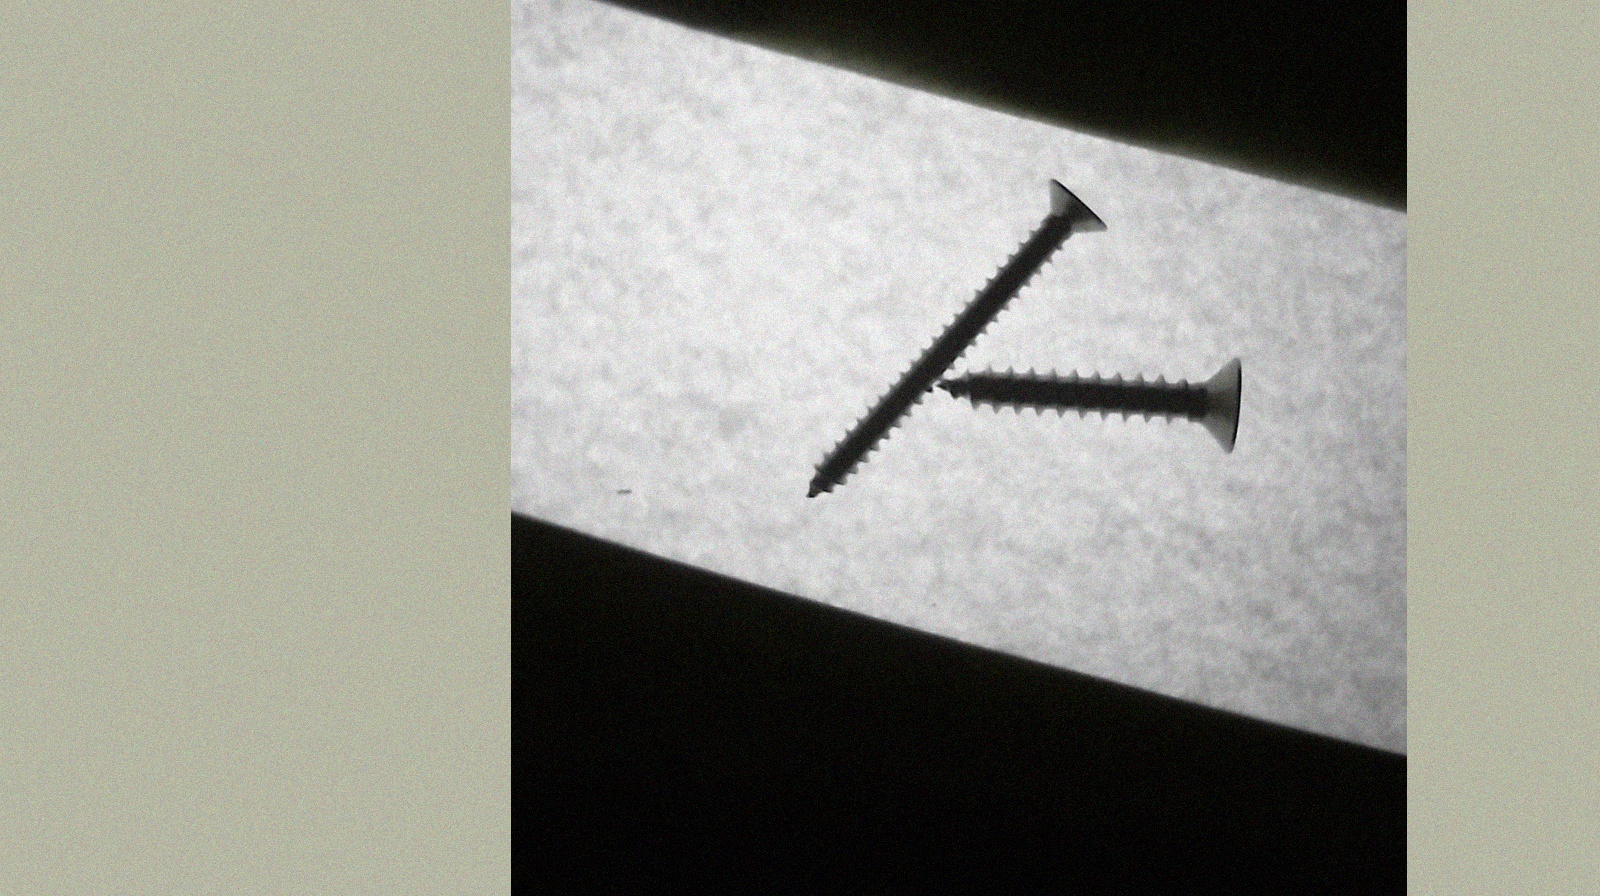S001: (934, 345, 1251, 449)
S002: (802, 176, 1110, 497)
